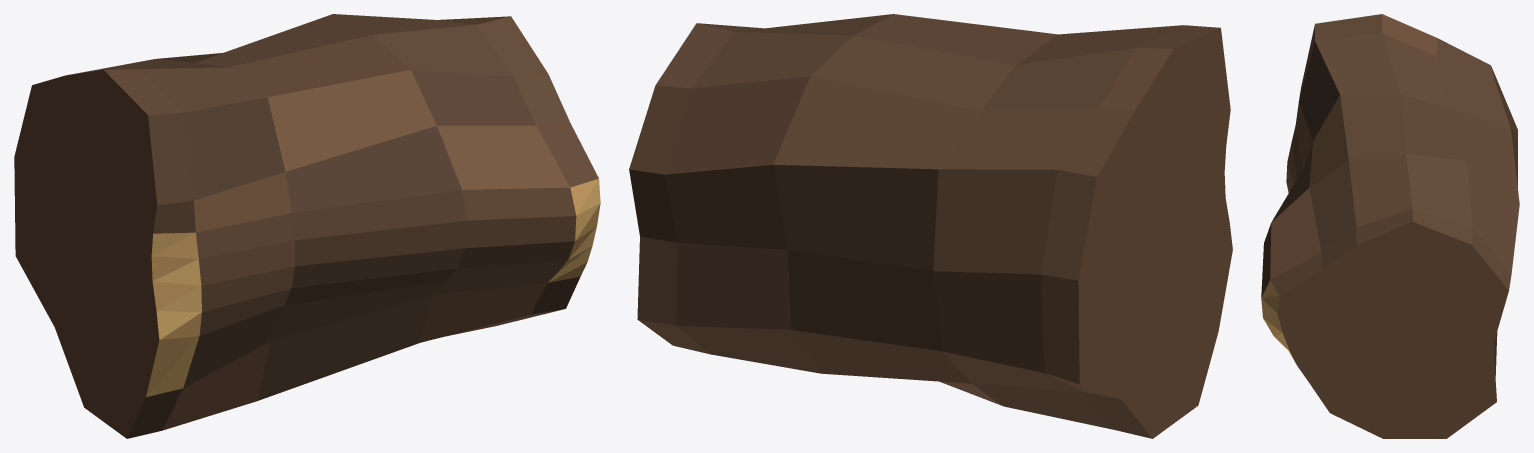
File: rootfall-center.glb
3 views of the same model, side by side, from view 1: azimuth 30°, elevation 25°; view 2: azimuth 150°, elevation 25°; view 3: azimuth 270°, elevation 25° (orthographic). The views are drawn at different scales.
Parts seen in each view (by area): view 1: rootfall-center; view 2: rootfall-center; view 3: rootfall-center.
Boxes of the visible parts, x1=… form: rootfall-center: x1=14, y1=14, x2=600, y2=438; rootfall-center: x1=629, y1=14, x2=1232, y2=438; rootfall-center: x1=1261, y1=14, x2=1519, y2=438.
Size of the model in its own units: 3.3 by 2.6 by 2.28.
Materials: 1 (1 with a texture image).
